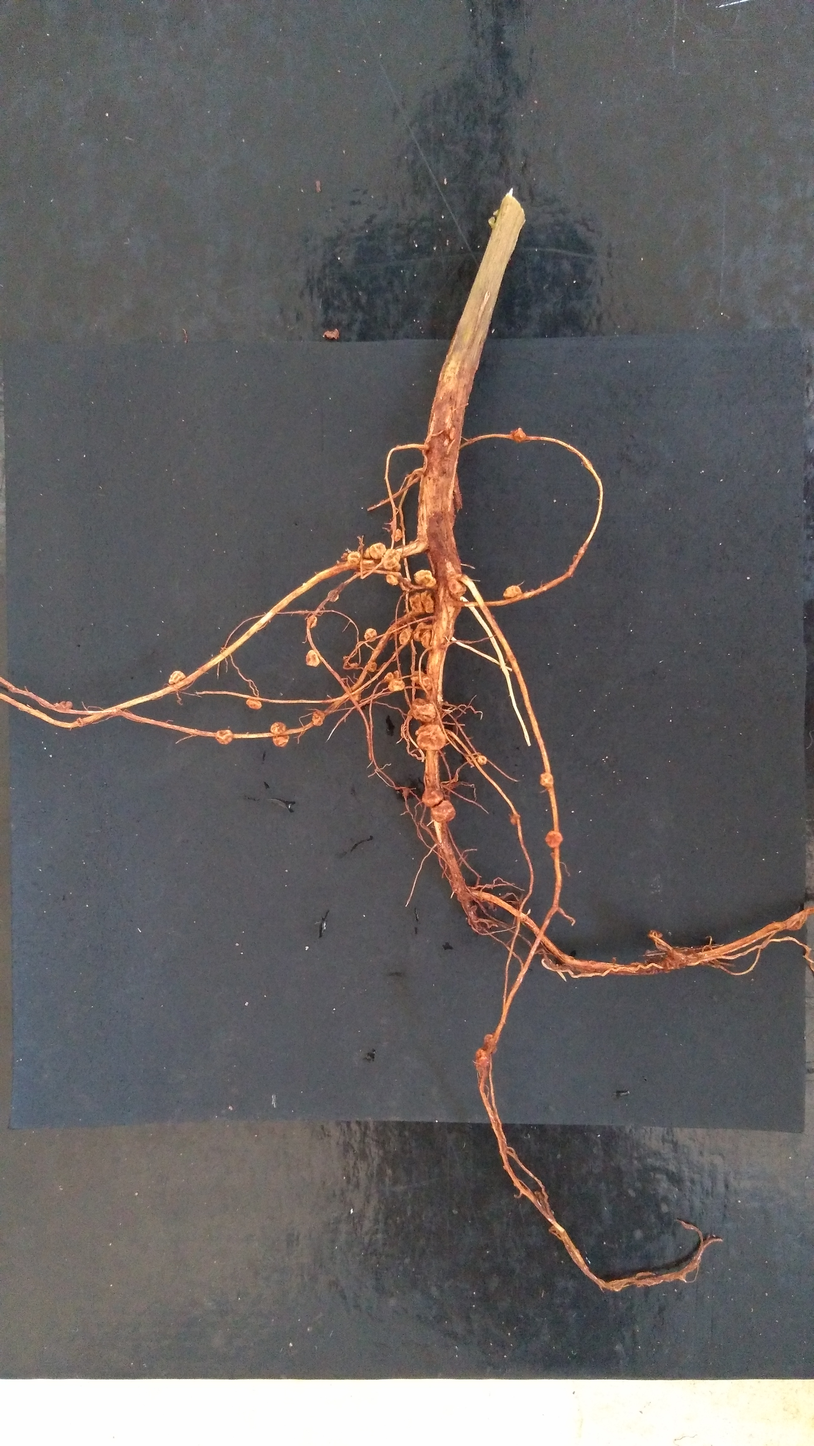nodule: (415, 724, 445, 750), (410, 698, 436, 722), (430, 800, 456, 823), (409, 590, 435, 613), (413, 622, 433, 649), (663, 952, 687, 971), (271, 722, 289, 747), (410, 671, 433, 690), (382, 548, 401, 571), (414, 570, 437, 587), (363, 543, 386, 559), (448, 579, 467, 598), (422, 789, 443, 806), (475, 1048, 490, 1071), (545, 831, 562, 848), (483, 1034, 497, 1053), (215, 730, 233, 744), (503, 586, 522, 599), (306, 650, 320, 667), (510, 427, 525, 442), (399, 628, 413, 644), (388, 678, 405, 691), (169, 671, 186, 684), (386, 571, 400, 585), (312, 711, 325, 726), (246, 698, 262, 710), (364, 628, 377, 642), (348, 551, 361, 564), (384, 670, 399, 681), (399, 578, 412, 590), (391, 529, 402, 542), (328, 589, 339, 602), (58, 701, 72, 710), (307, 616, 317, 628), (650, 929, 663, 938), (510, 814, 520, 825), (351, 691, 361, 701), (367, 661, 376, 672), (478, 755, 487, 765), (449, 427, 455, 440), (341, 553, 349, 560), (351, 662, 358, 668), (550, 851, 555, 859)
